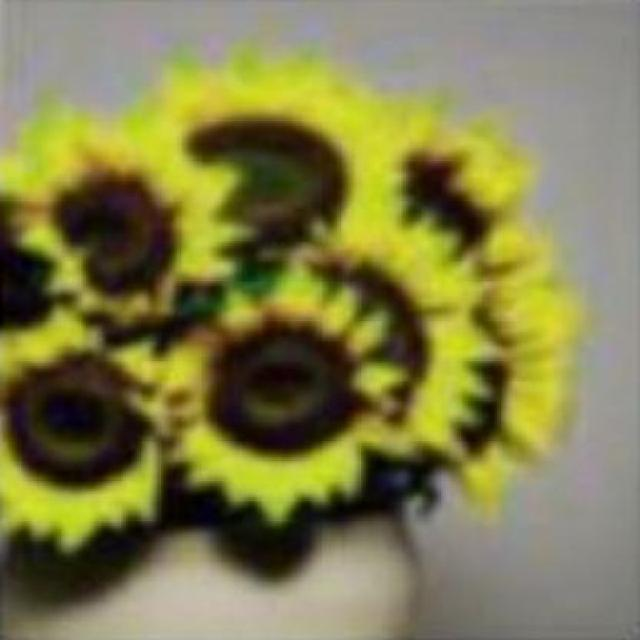sunflower: (130, 49, 402, 277), (167, 289, 399, 529), (1, 89, 196, 314), (3, 308, 172, 559)
